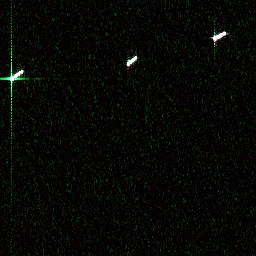ship: (6, 67, 26, 83), (210, 28, 229, 43), (124, 53, 140, 67)
